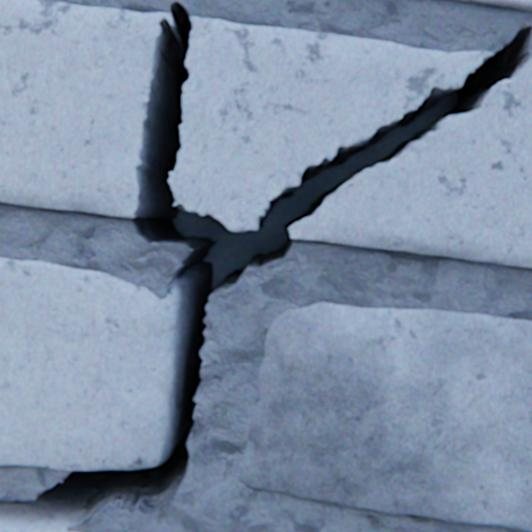brick: (240, 302, 531, 531), (0, 257, 167, 469), (452, 0, 531, 12), (0, 525, 80, 531)
broken_brick: (169, 17, 491, 231), (288, 59, 531, 267), (0, 0, 173, 217)
crack: (0, 1, 531, 529)
